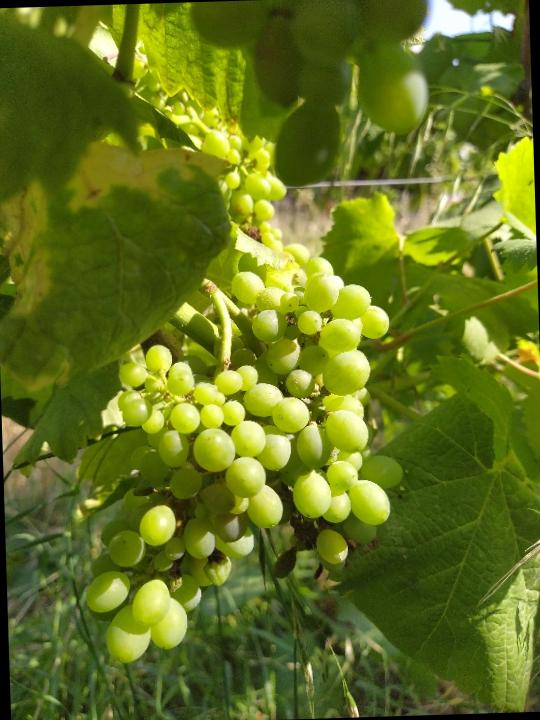grape: (72, 235, 413, 671)
